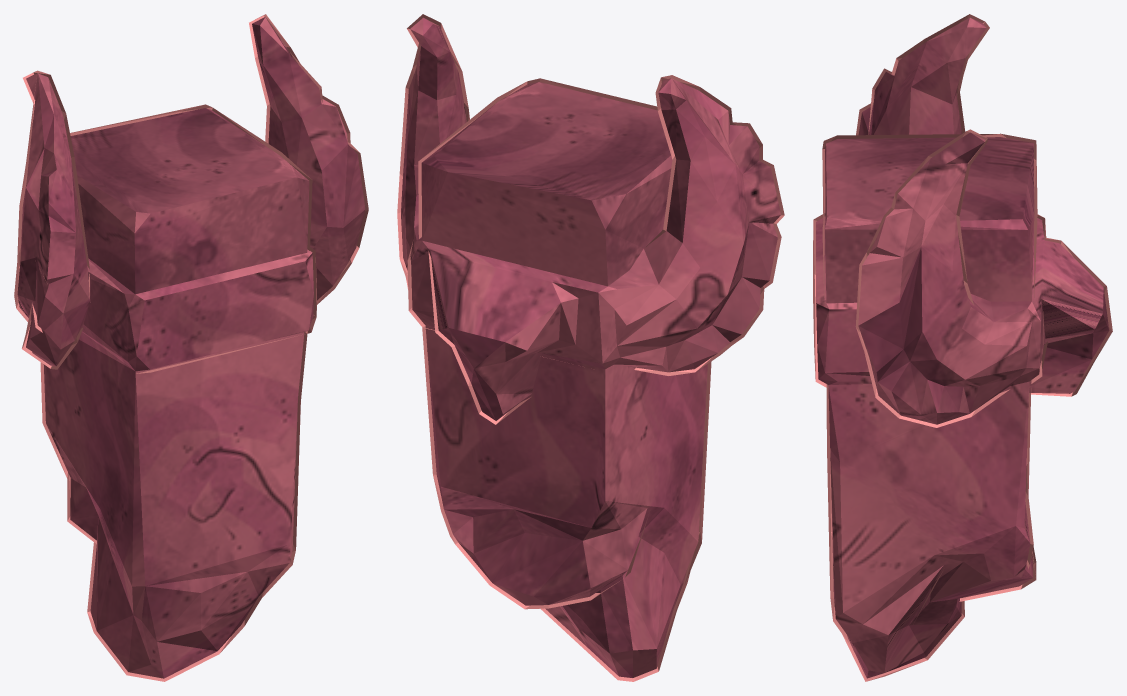
File: entity434922.gltf
The picture shows the model from 3 angles, left to right: view 1: azimuth 30°, elevation 25°; view 2: azimuth 150°, elevation 25°; view 3: azimuth 270°, elevation 25°; orthographic projection. The views are drawn at different scales.
Visible parts, largest first — view 1: node_mesh_ruins_01; view 2: node_mesh_ruins_01; view 3: node_mesh_ruins_01.
Boxes of the visible parts, x1,y1,x2,y2 form: node_mesh_ruins_01: (14,14,368,681); node_mesh_ruins_01: (397,14,784,681); node_mesh_ruins_01: (813,14,1112,681).
Size of the model in its own units: 2.17 by 3.77 by 1.67.
